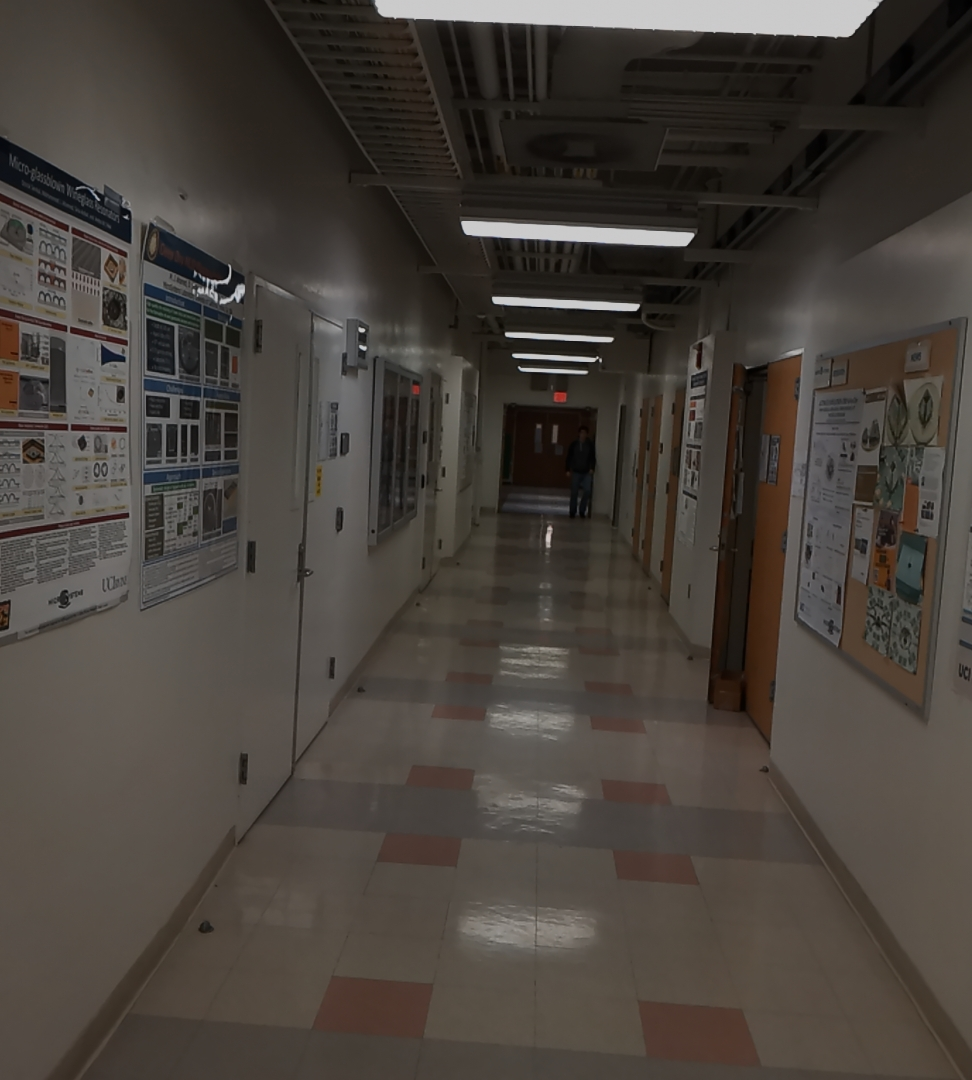emergency_exit: (787, 316, 965, 720), (1, 137, 137, 644)
